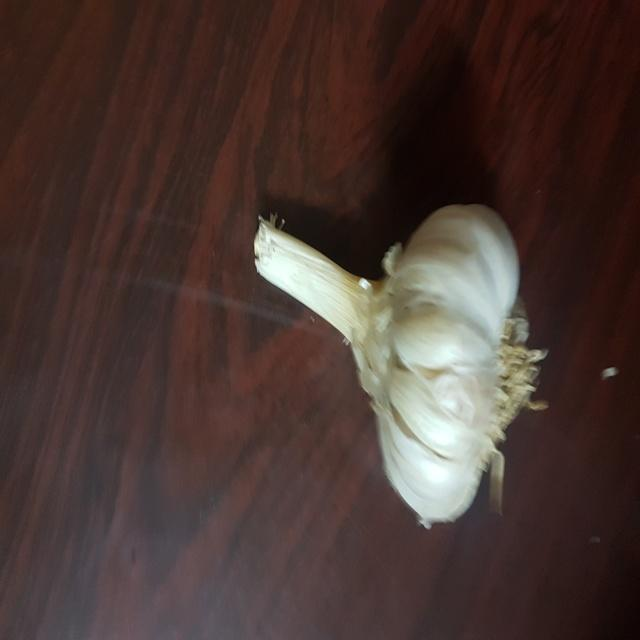garlic: (253, 196, 556, 529)
